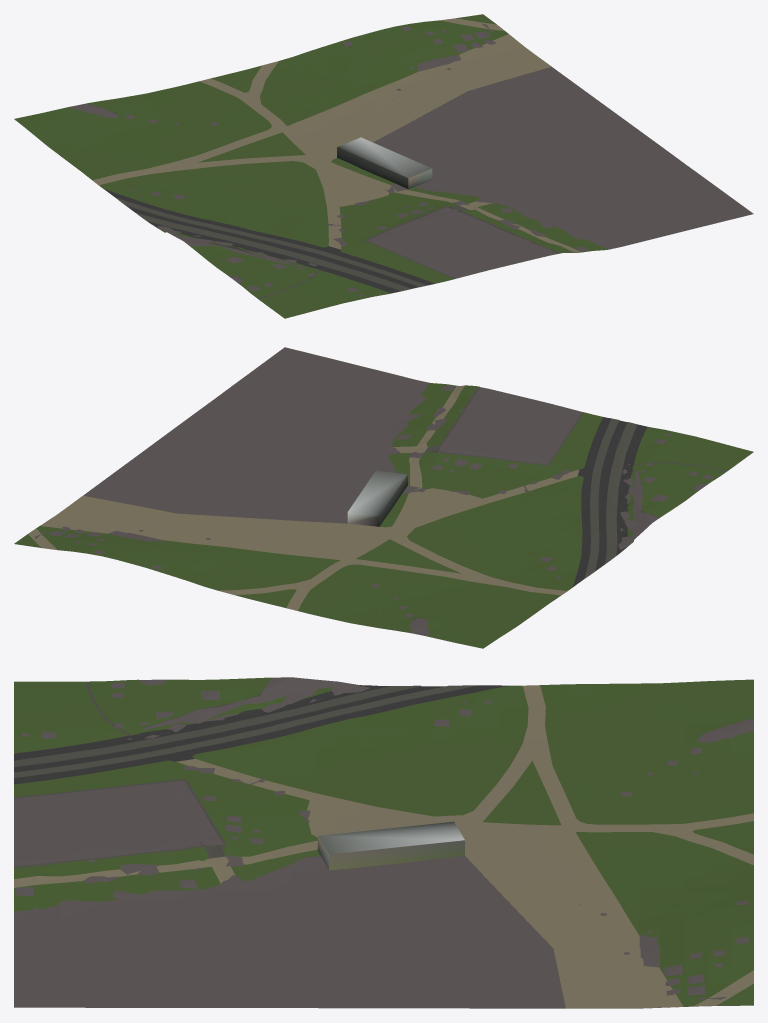
3 views of the same model, one above another, from view 1: azimuth 30°, elevation 25°; view 2: azimuth 150°, elevation 25°; view 3: azimuth 270°, elevation 25° (orthographic). The views are drawn at different scales.
Visible parts, largest first — view 1: c_m16_m03; view 2: c_m16_m03; view 3: c_m16_m03.
Part boxes in pixels (x1,y1,x2,y2): c_m16_m03: (14,14,753,318); c_m16_m03: (14,347,753,648); c_m16_m03: (14,677,753,1008).
Size of the model in its own units: 128 by 3.79 by 128.
